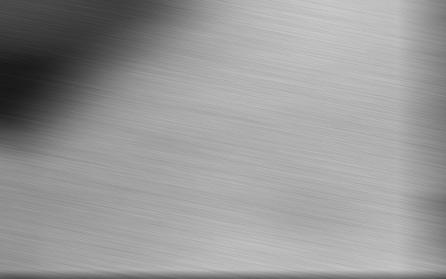Airbag: (0, 0, 446, 278), (426, 0, 446, 279), (0, 275, 445, 279)
